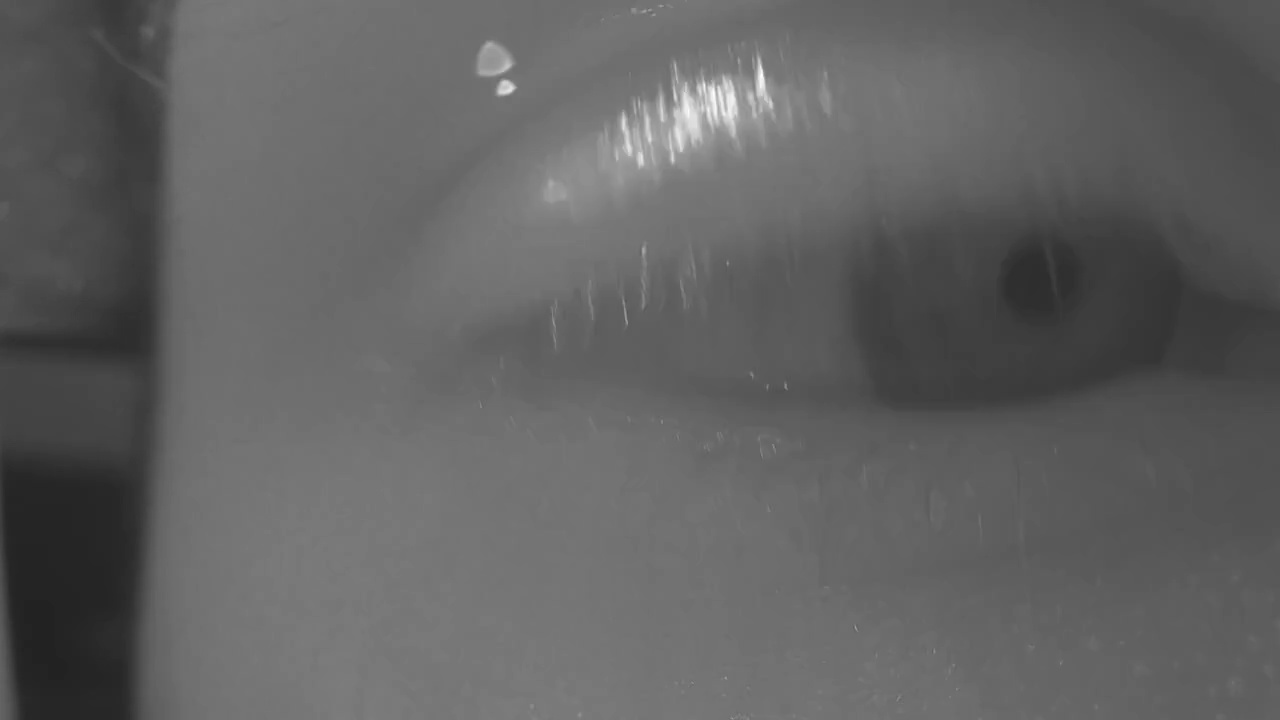pupil: (997, 243, 1078, 318)
